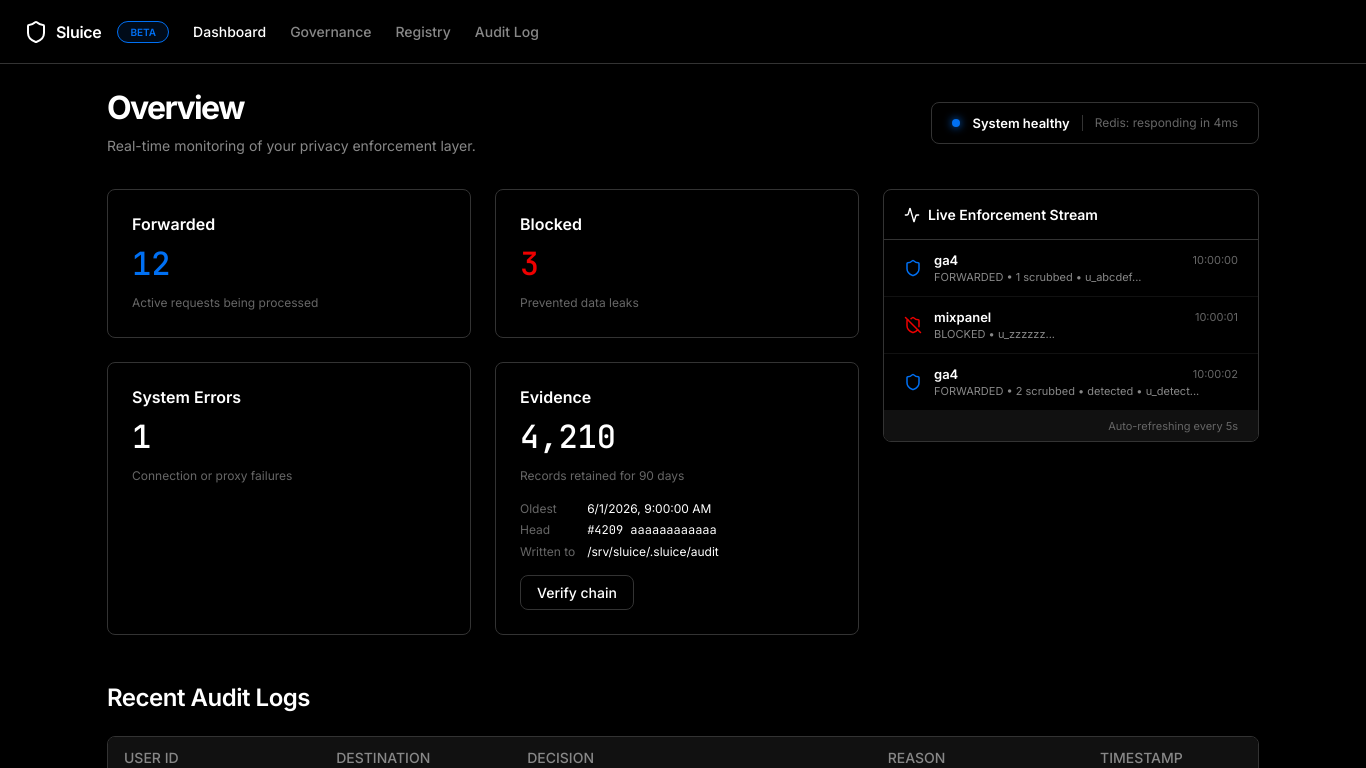
it: operator surfaces report what was measured › no longer shows a coverage percentage against a made-up denominator
The width and height of the screenshot is (1366, 768).
Click the link "Registry" at (423, 32), box [396, 23, 451, 40]
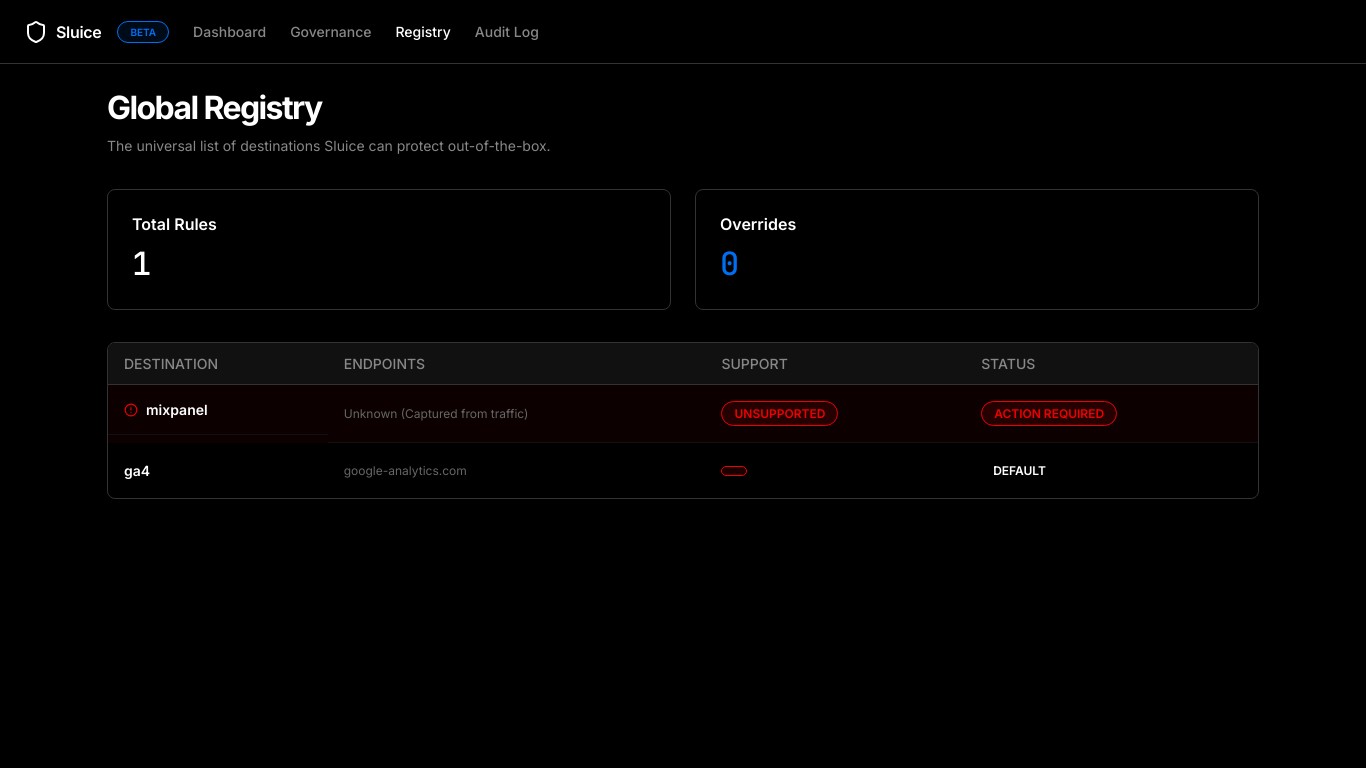
Expected: the heading "Total Rules" is shown, [132, 214, 217, 234]
